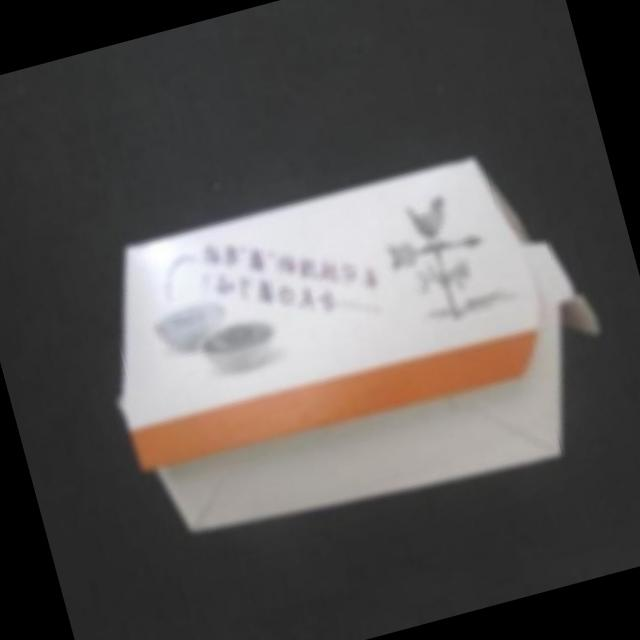box: (74, 118, 612, 569)
